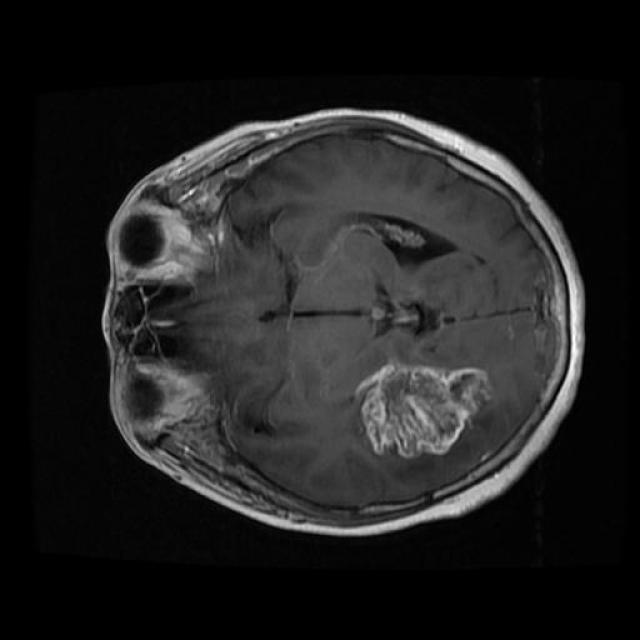Glioma: (356, 363, 489, 459)
